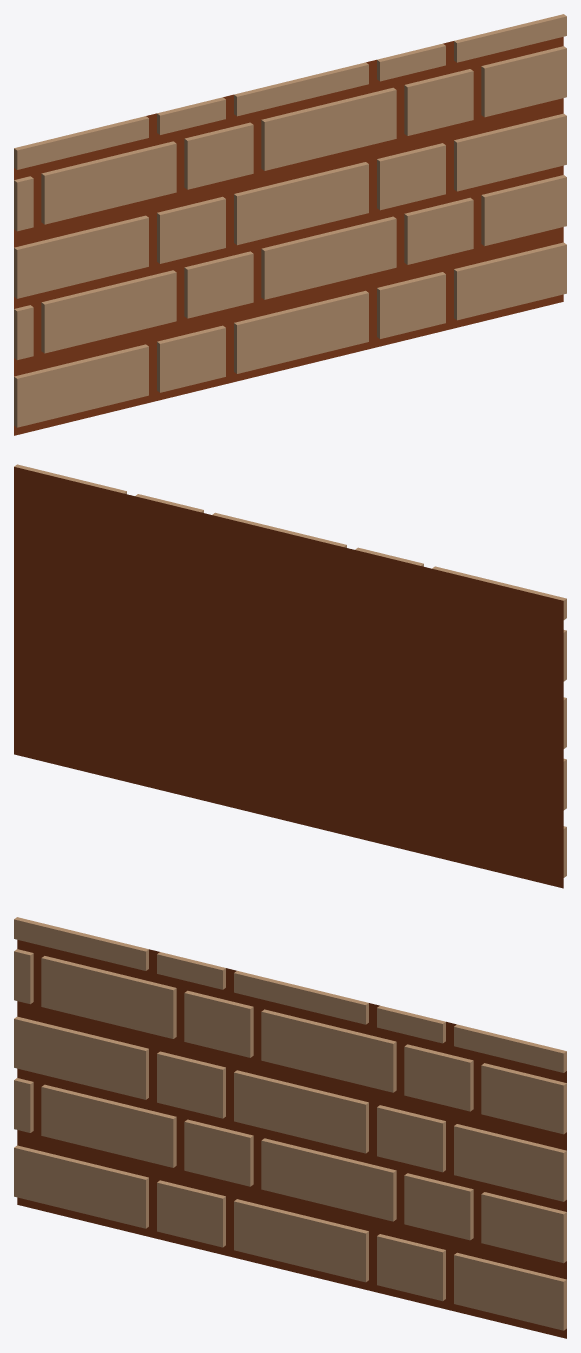
Rendered from Ext-BrickV1HalfWall.fbx.
3 renders of one model, top to bottom at view 1: azimuth 30°, elevation 25°; view 2: azimuth 150°, elevation 25°; view 3: azimuth 330°, elevation 25°, orthographic.
Visible parts, largest first — view 1: Ext-BrickV1HalfWall; view 2: Ext-BrickV1HalfWall; view 3: Ext-BrickV1HalfWall.
Boxes of the visible parts, bbox=[...] form: Ext-BrickV1HalfWall: bbox=[14, 14, 566, 435]; Ext-BrickV1HalfWall: bbox=[14, 464, 566, 888]; Ext-BrickV1HalfWall: bbox=[14, 917, 566, 1338].
Bounding box in the file's own units: 200 × 100 × 2.
